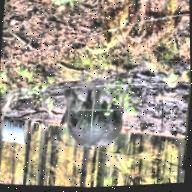boar: (56, 83, 126, 153)
